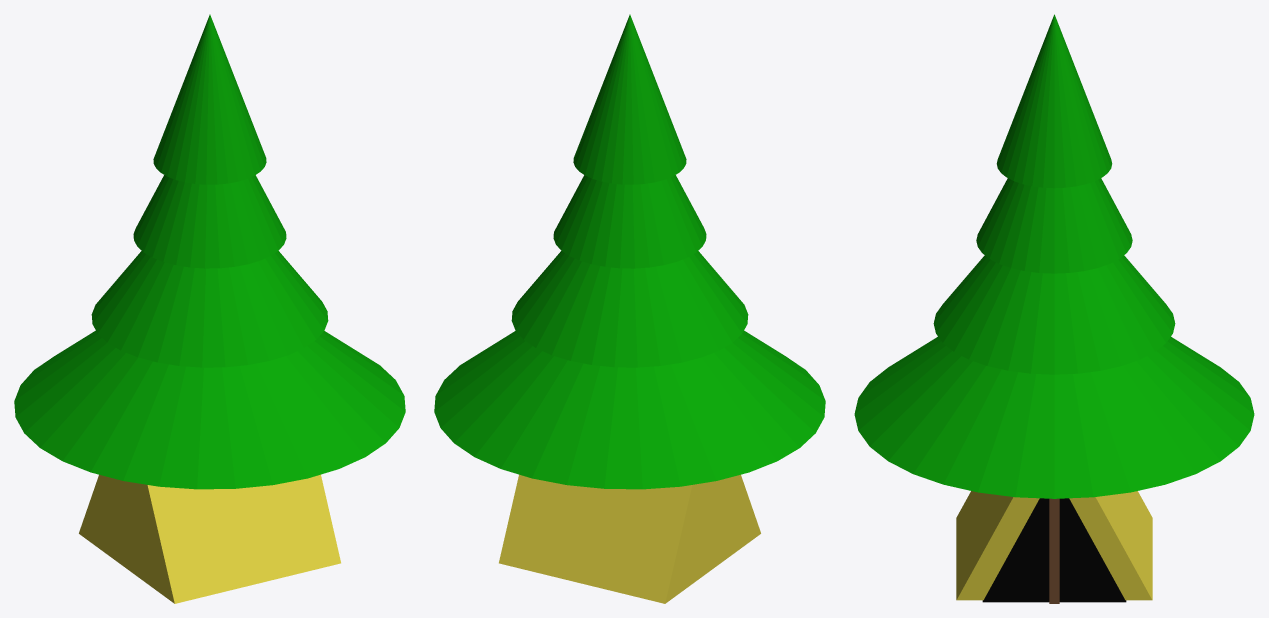
File: Forest.fbx
3 views of the same model, side by side, from view 1: azimuth 30°, elevation 25°; view 2: azimuth 150°, elevation 25°; view 3: azimuth 270°, elevation 25° (orthographic).
Parts seen in each view (by area): view 1: Leaves, Tent; view 2: Leaves, Tent; view 3: Leaves, Tent, Door, Bar.
Boxes of the visible parts, x1,y1,x2,y2 form: Leaves: (14, 14, 405, 489); Tent: (79, 474, 340, 603); Leaves: (434, 14, 825, 489); Tent: (499, 474, 760, 603); Leaves: (854, 14, 1254, 498); Tent: (956, 491, 1152, 600); Door: (982, 498, 1126, 602); Bar: (1049, 498, 1059, 603).
Size of the model in its own units: 1498 by 2312 by 1498.
